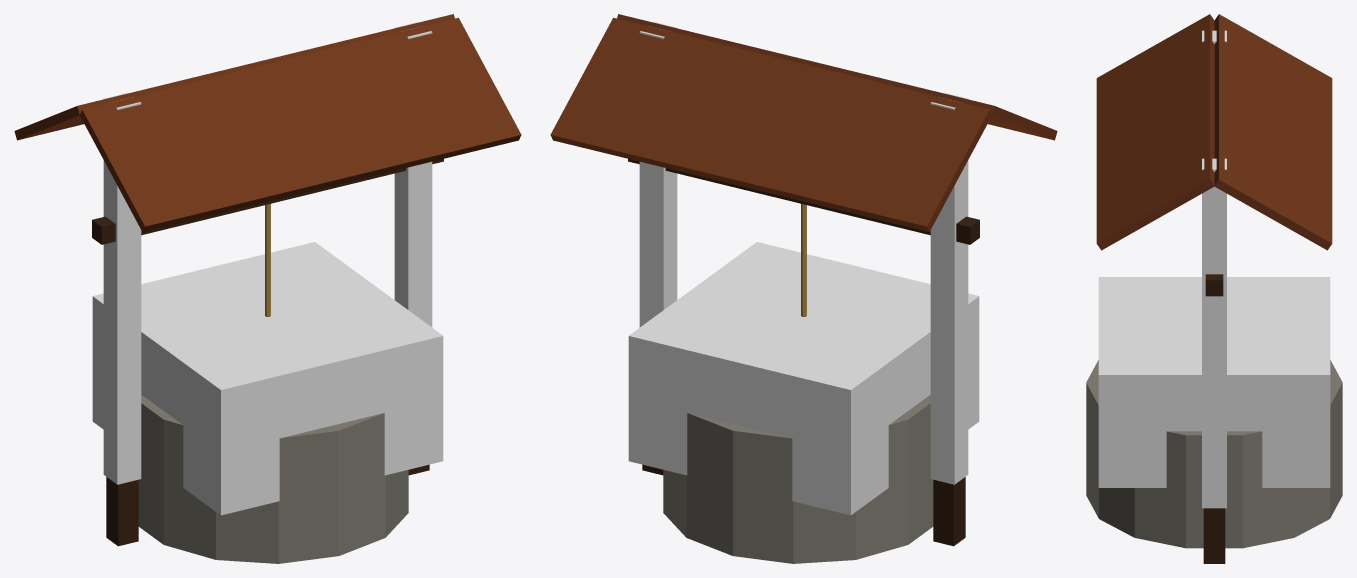
File: Well.fbx
3 views of the same model, side by side, from view 1: azimuth 30°, elevation 25°; view 2: azimuth 150°, elevation 25°; view 3: azimuth 270°, elevation 25° (orthographic). The views are drawn at different scales.
Parts seen in each view (by area): view 1: Well, COL_Well_2, COL_Well_0, COL_Well_1; view 2: Well, COL_Well_2, COL_Well_0, COL_Well_1; view 3: Well, COL_Well_2, COL_Well_1.
Boxes of the visible parts, x1=… form: Well: x1=14, y1=14, x2=521, y2=563; COL_Well_2: x1=92, y1=242, x2=443, y2=515; COL_Well_0: x1=103, y1=93, x2=141, y2=484; COL_Well_1: x1=394, y1=22, x2=432, y2=327; Well: x1=550, y1=14, x2=1057, y2=563; COL_Well_2: x1=628, y1=242, x2=979, y2=515; COL_Well_0: x1=930, y1=93, x2=968, y2=484; COL_Well_1: x1=639, y1=22, x2=677, y2=327; Well: x1=1086, y1=14, x2=1342, y2=563; COL_Well_2: x1=1098, y1=277, x2=1330, y2=487; COL_Well_1: x1=1202, y1=158, x2=1226, y2=508.
Bounding box in the file's own units: 2.2 × 2.47 × 1.44.
